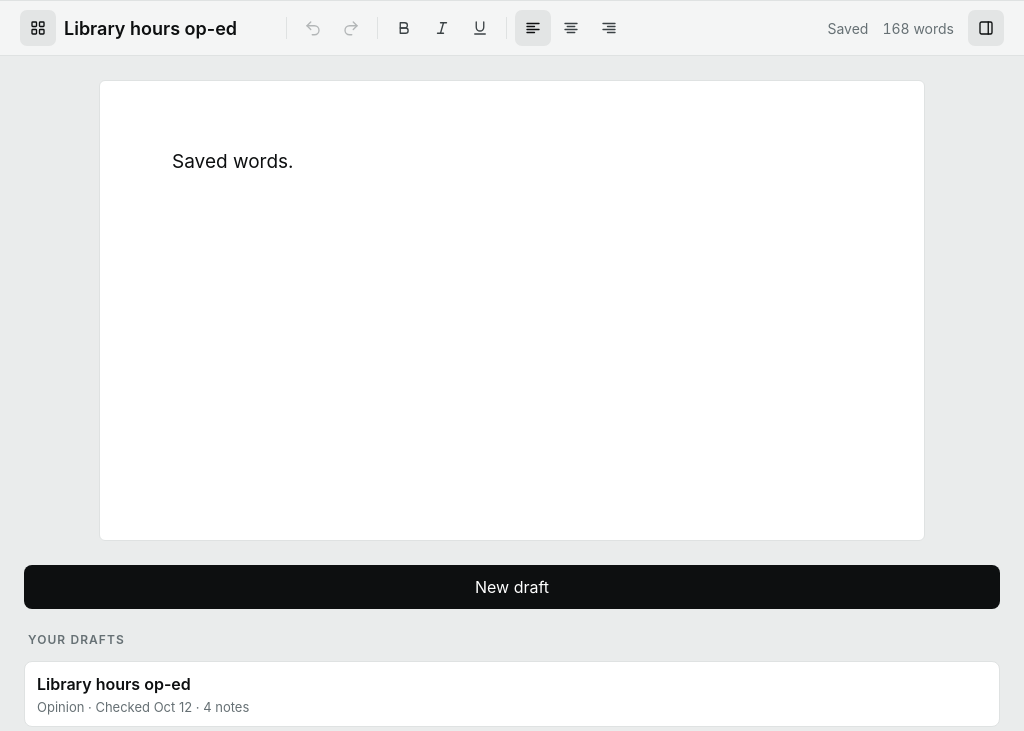
with drafts › New draft can be cancelled back to the open draft
Click the button "New draft". click: (512,587)
box: [24, 565, 1000, 609]
(page scrolled)
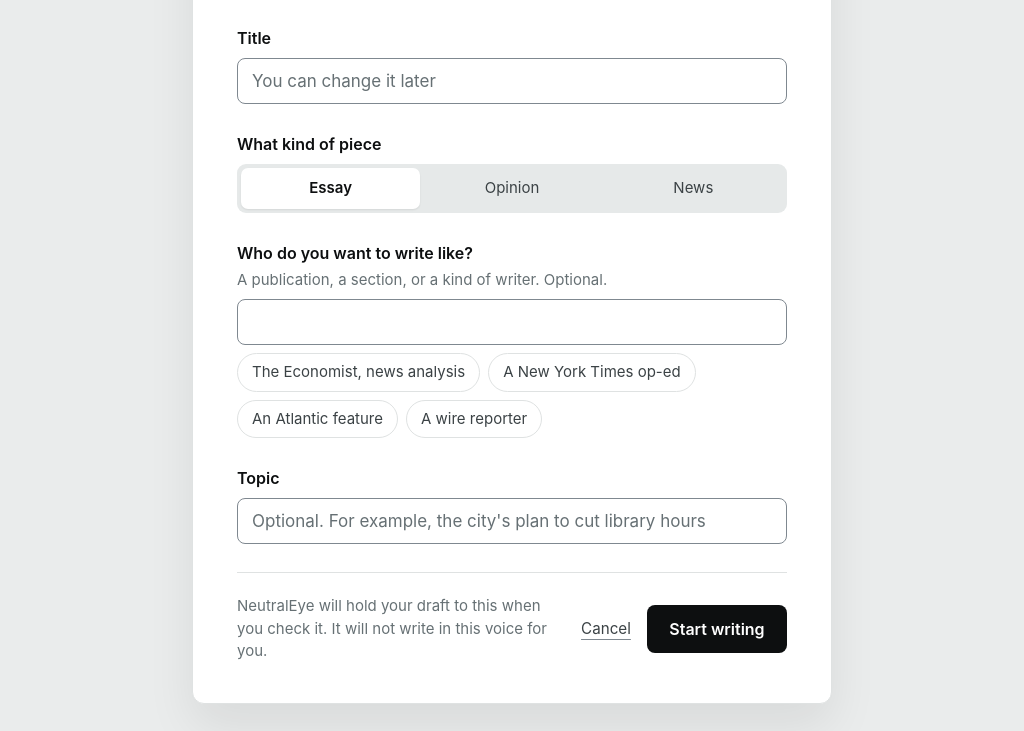
Click the button "Cancel". click: (606,629)
box: [581, 613, 631, 645]
(page scrolled)
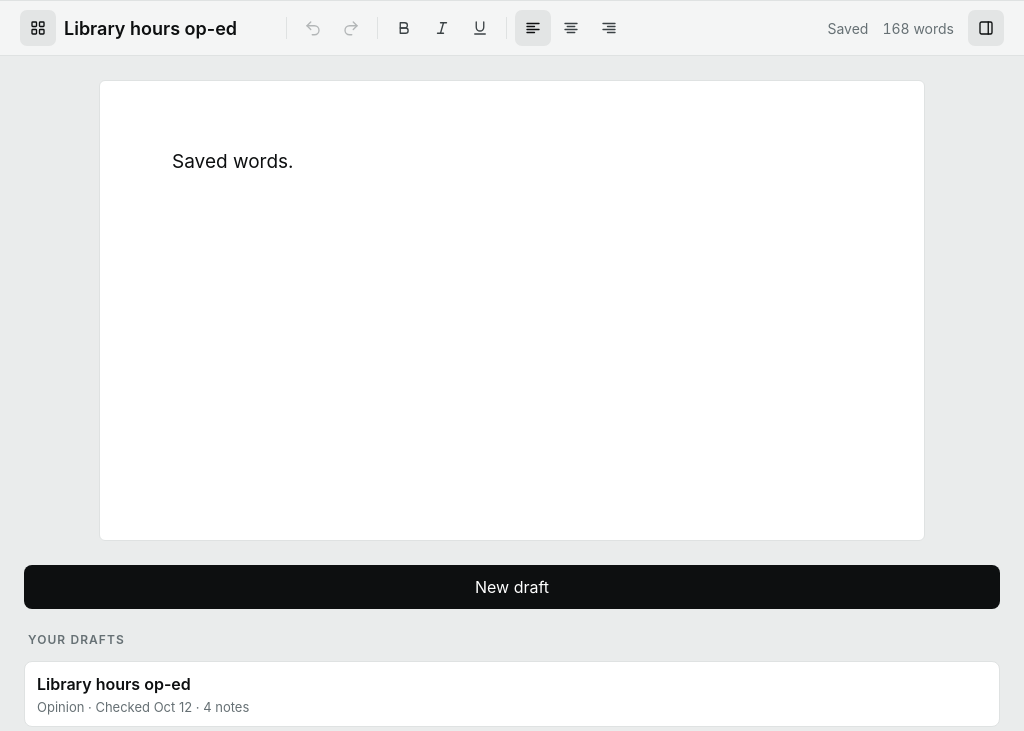
expect the field named "Draft title" holds "Library hours op-ed": met, box [58, 10, 278, 46]
